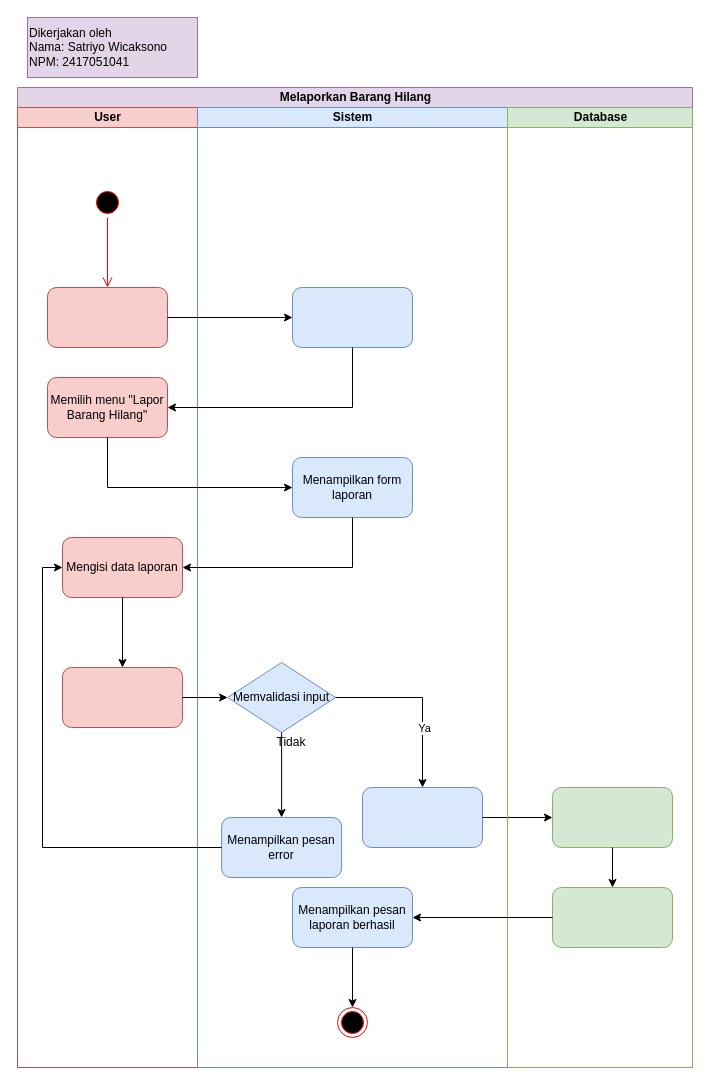
This 710x1085 diagram has some shape labels left out. The shapes that lost their labels are listed below. From the top down, each one's centre as x and y in pixels, then its label:
the point at 107,317: Membuka aplikasi
the point at 352,317: Menampilkan halaman utama
the point at 122,697: Menekan tombol submit
the point at 422,817: Mengirim data ke database
the point at 612,817: Menyimpan data laporan
the point at 612,917: Mengembalikan status
